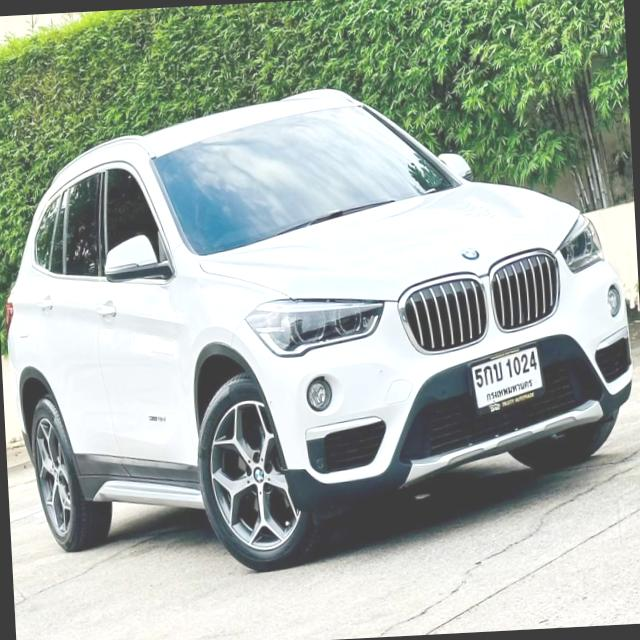license_plate: (466, 337, 549, 422)
